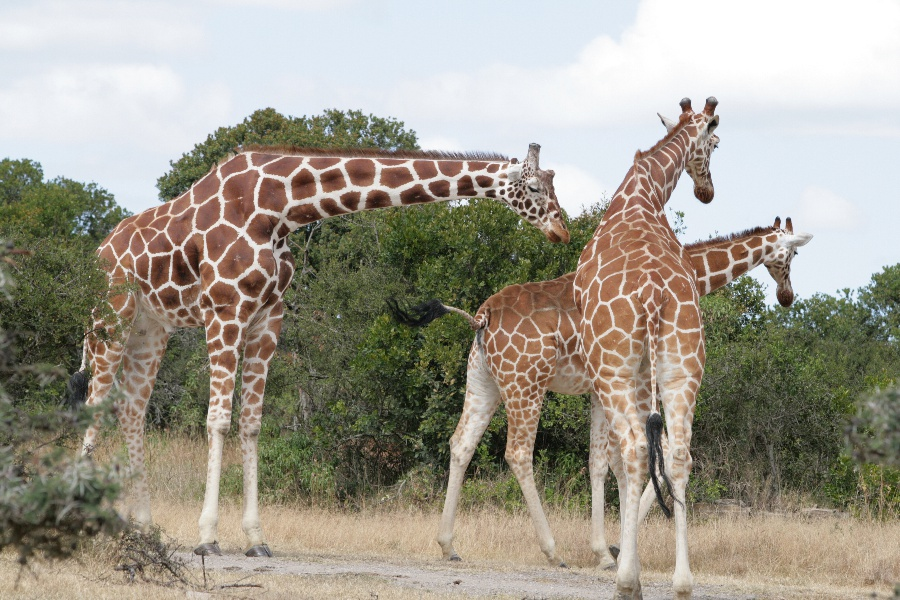giraffe: (46, 117, 570, 569), (433, 209, 818, 571), (568, 89, 730, 598)
